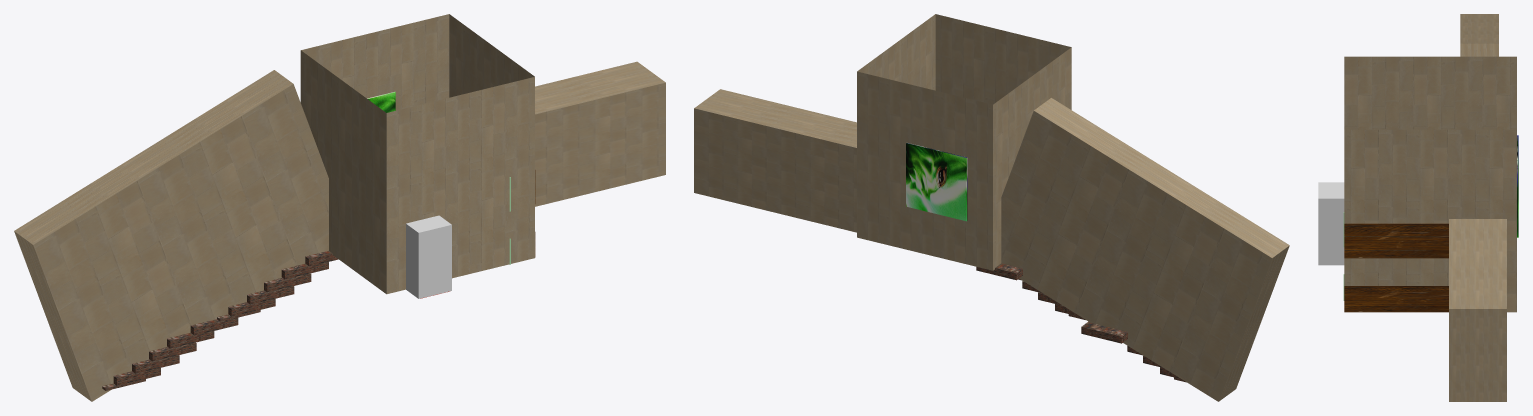
Rendered from kitchen.glb.
3 renders of one model, left to right at view 1: azimuth 30°, elevation 25°; view 2: azimuth 150°, elevation 25°; view 3: azimuth 270°, elevation 25°, orthographic. The views are drawn at different scales.
Visible parts, largest first — view 1: Room, Doorframe, Stairs.001, Stairs.006; view 2: Room, Painting, Stairs.001, Stairs.006; view 3: Room, TopWood, BaseWood, Doorframe, Painting.
Boxes of the visible parts, <box> form: Room: <box>14,14,665,401</box>; Doorframe: <box>406,215,451,298</box>; Stairs.001: <box>102,317,238,390</box>; Stairs.006: <box>217,251,338,321</box>; Room: <box>694,14,1289,401</box>; Painting: <box>906,143,967,221</box>; Stairs.001: <box>1081,321,1186,382</box>; Stairs.006: <box>976,263,1085,319</box>; Room: <box>1344,14,1516,401</box>; TopWood: <box>1344,223,1448,258</box>; BaseWood: <box>1344,286,1448,312</box>; Doorframe: <box>1318,182,1344,265</box>; Painting: <box>1517,135,1518,237</box>.
Bounding box in the file's own units: 50.67 × 21.09 × 13.89.
12 materials, 7 textured.
